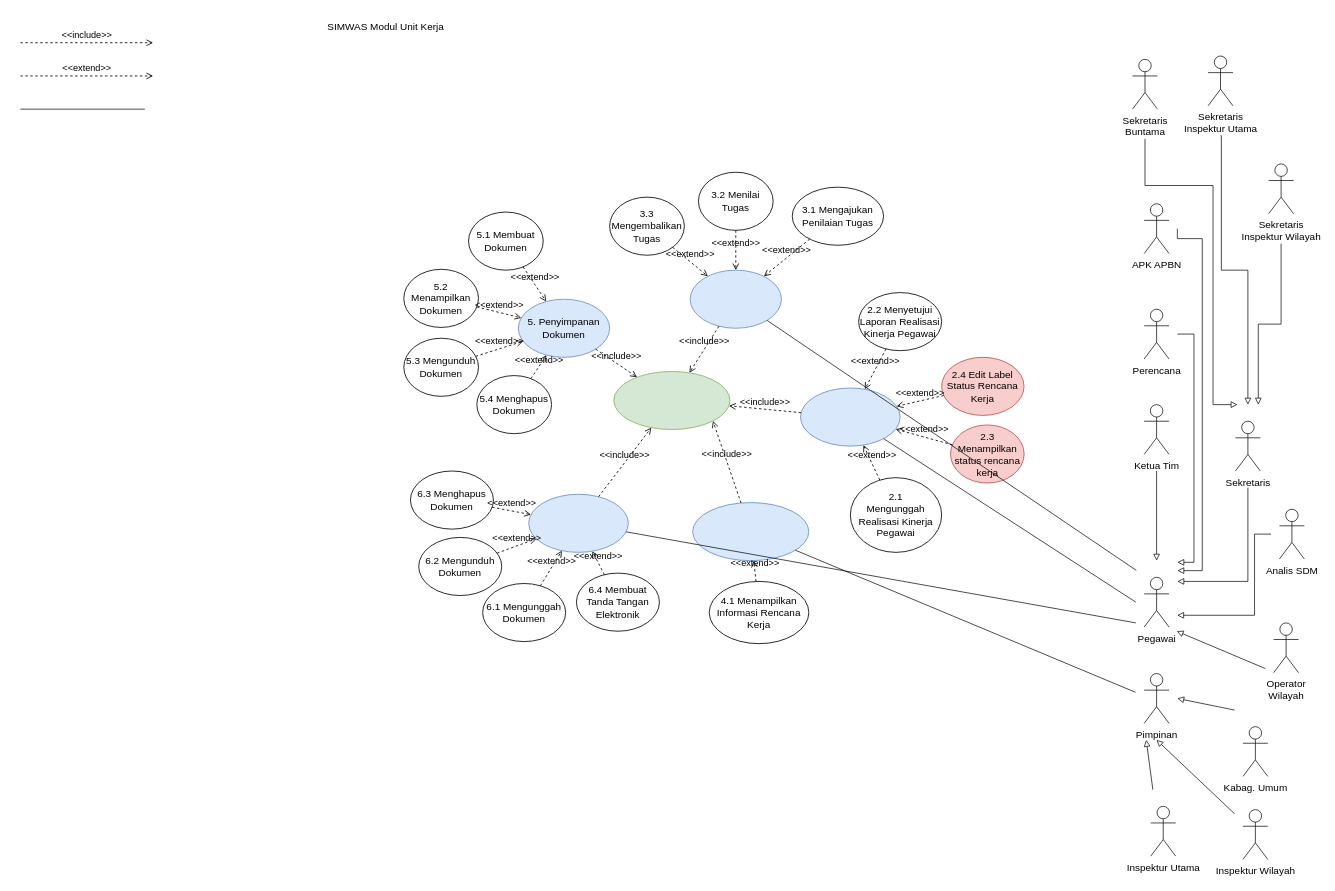
This 1335x891 diagram has some shape labels left out. Here are the shapes that lost their labels. From the top down, the centre of each, then its label:
At [735,298]: "3. Penilaian Kinerja Berjenjang".
At [671,400]: "1. Login SSO".
At [850,416]: "2. Realisasi Kinerja".
At [578,522]: "6. Tanda Tangan Elektronik".
At [750,531]: "4. Monitoring Kinerja Pegawai".
